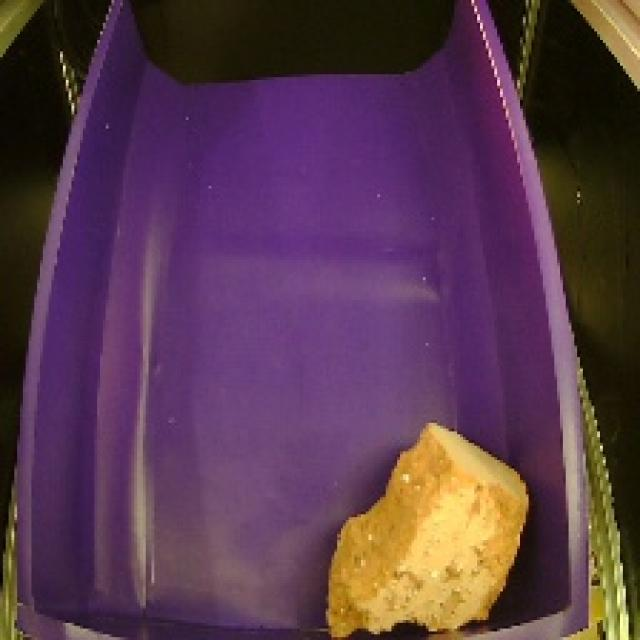brick: (315, 414, 537, 640)
